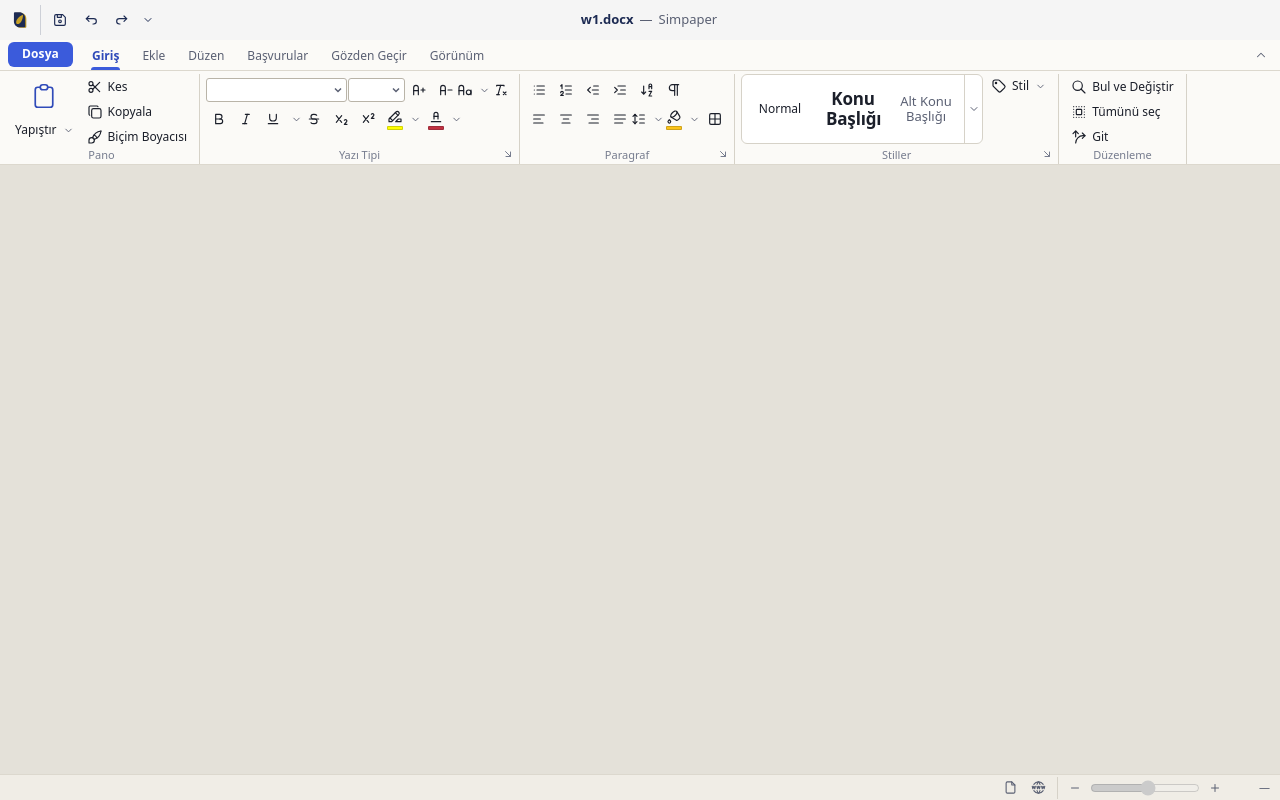
keyboard between Simpaper and the document (GUI check 2026-09-29: a letter for the font box went into the document) › a ribbon menu holds the keyboard while it is open (GUI check 2026-09-30: Esc and the arrows reached the document)
Click the button named "Altı çizili seçenekleri". click: click(293, 119)
box: x1=286 y1=107 x2=300 y2=131
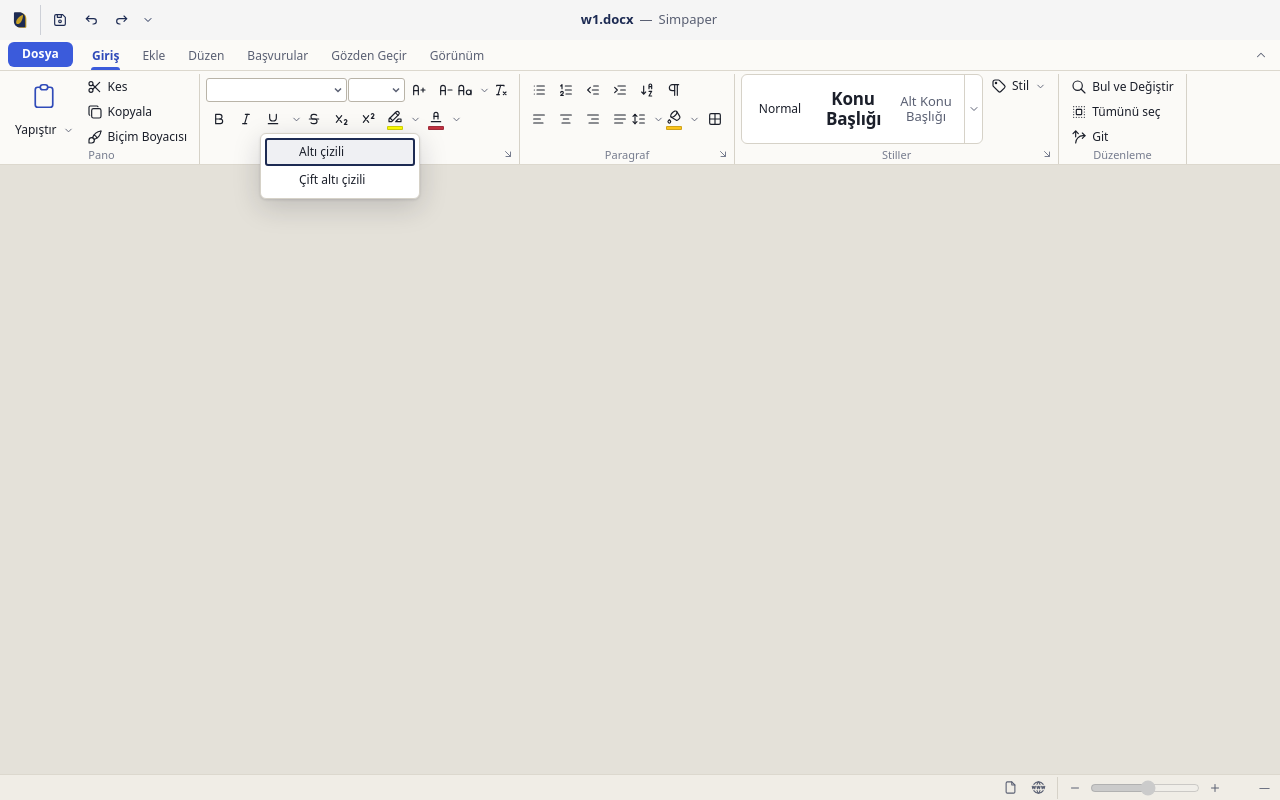
Press Escape in the menu item "Altı çizili", box x1=265 y1=138 x2=415 y2=166
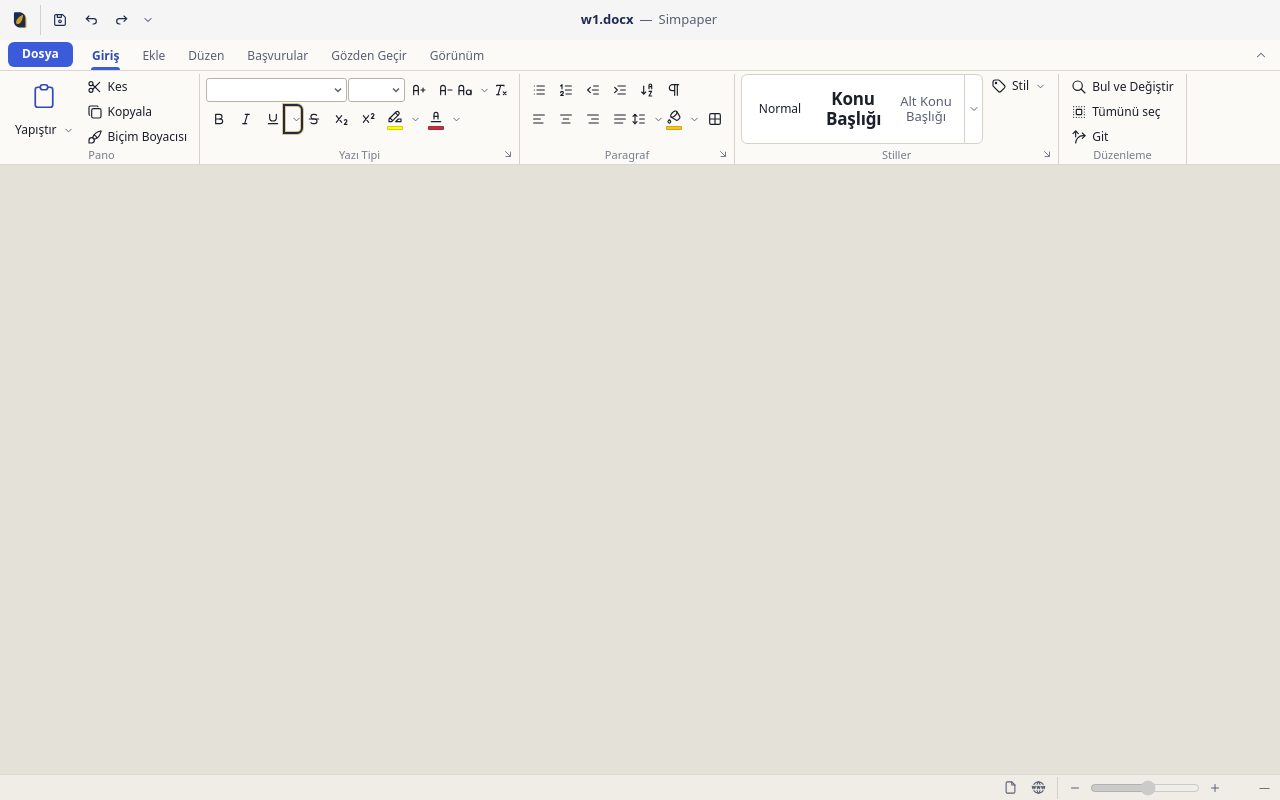
Expected: the text "Altı çizili" is gone
